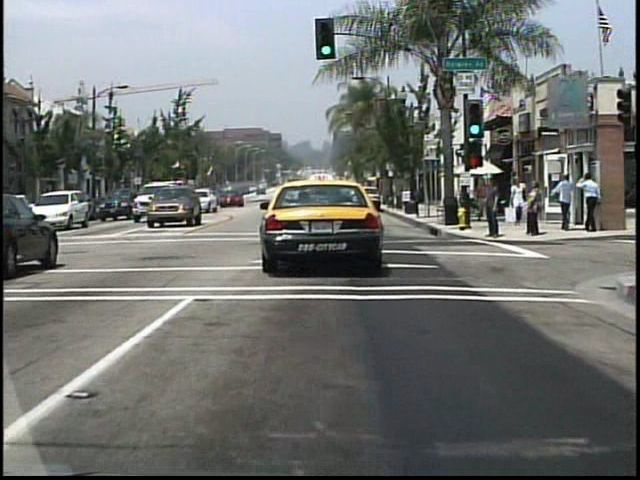person: (577, 169, 603, 232), (554, 171, 574, 233), (484, 178, 503, 240), (509, 177, 528, 229), (473, 176, 493, 225), (525, 182, 543, 236)
